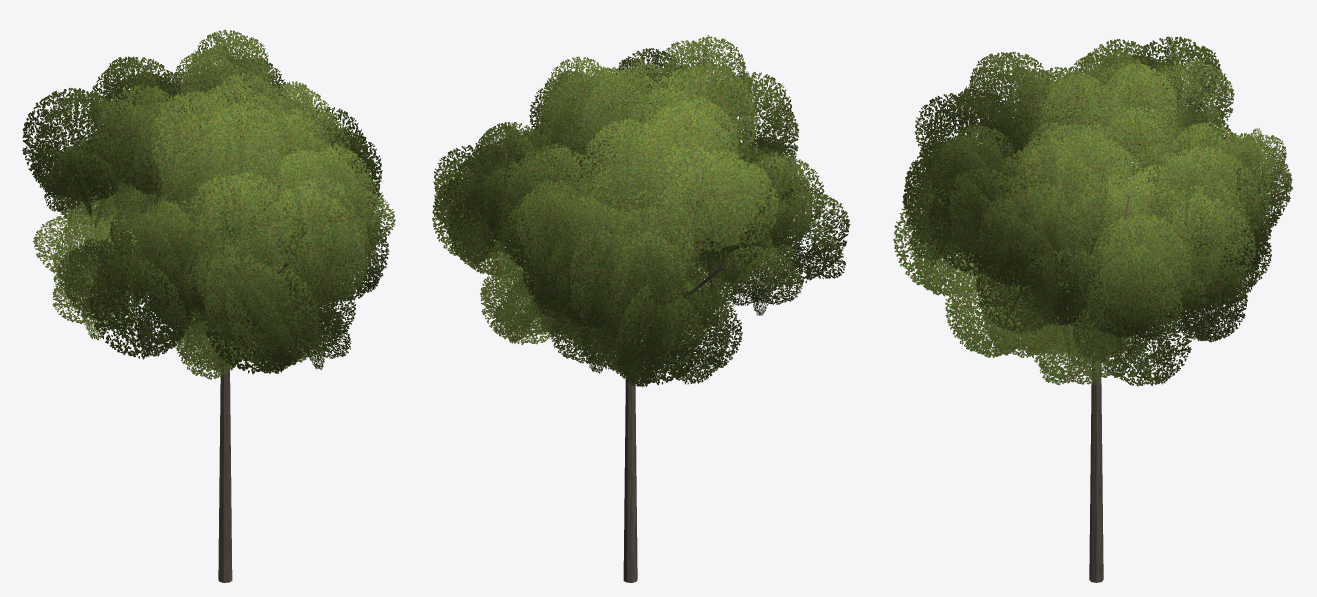
Rendered from tree_honeylocust_lifted.glb.
The picture shows the model from 3 angles, left to right: view 1: azimuth 30°, elevation 25°; view 2: azimuth 150°, elevation 25°; view 3: azimuth 270°, elevation 25°; orthographic projection.
Parts seen in each view (by area): view 1: tree_honeylocust_lifted_crown, tree_honeylocust_lifted_trunk-col; view 2: tree_honeylocust_lifted_crown, tree_honeylocust_lifted_trunk-col; view 3: tree_honeylocust_lifted_crown, tree_honeylocust_lifted_trunk-col.
Boxes of the visible parts, box(x1,y1,x2,y2) form: tree_honeylocust_lifted_crown: box(22, 29, 395, 379); tree_honeylocust_lifted_trunk-col: box(218, 215, 232, 582); tree_honeylocust_lifted_crown: box(432, 35, 850, 387); tree_honeylocust_lifted_trunk-col: box(623, 164, 637, 582); tree_honeylocust_lifted_crown: box(893, 36, 1292, 386); tree_honeylocust_lifted_trunk-col: box(1089, 242, 1103, 582).
Size of the model in its own units: 9.44 by 13.34 by 9.49.
Materials: 2 (2 with a texture image).
